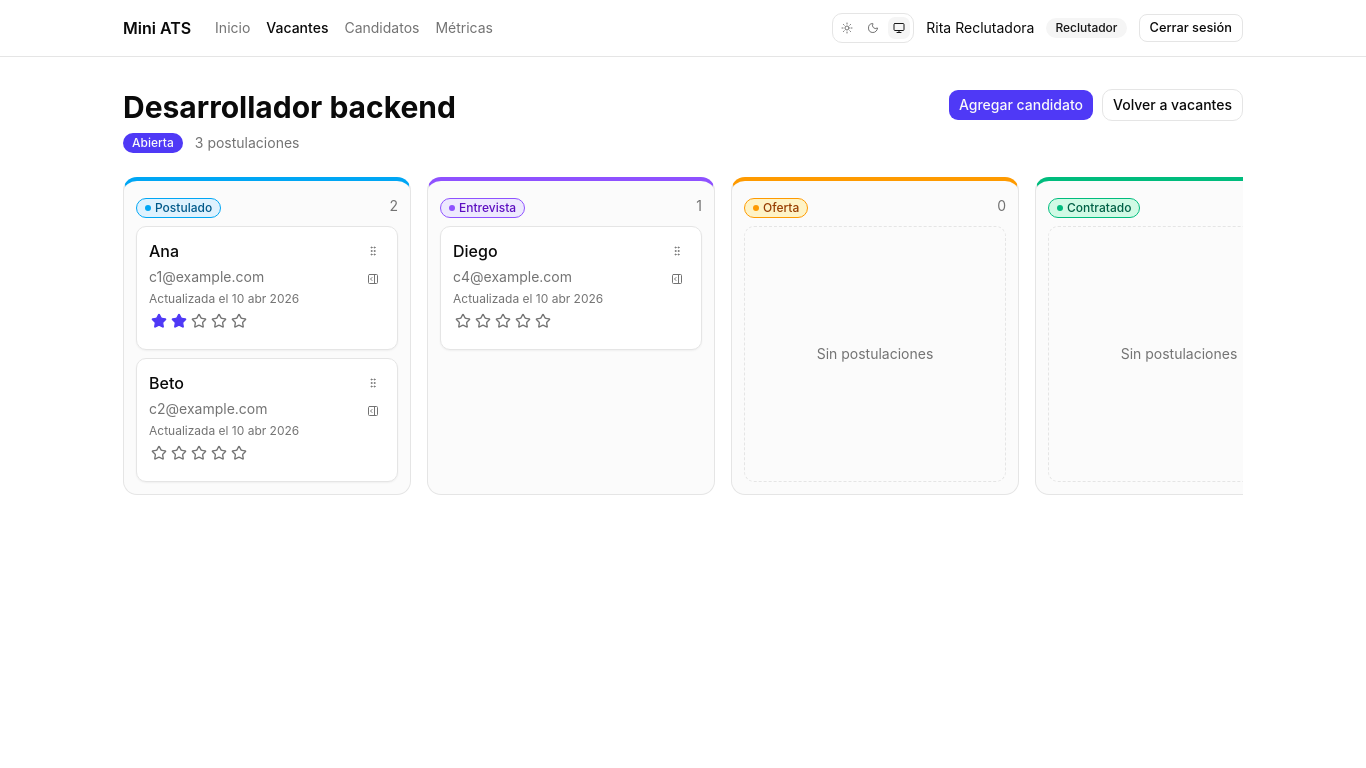
Test: Rating applications on the board › changes the stars at once on the card and in the panel, and reloads once saved
Check: the link "Ana" is shown, box [149,241,179,261]
Click the button named "Ver detalle de la postulación de Ana": (373, 279) [361,267,385,291]
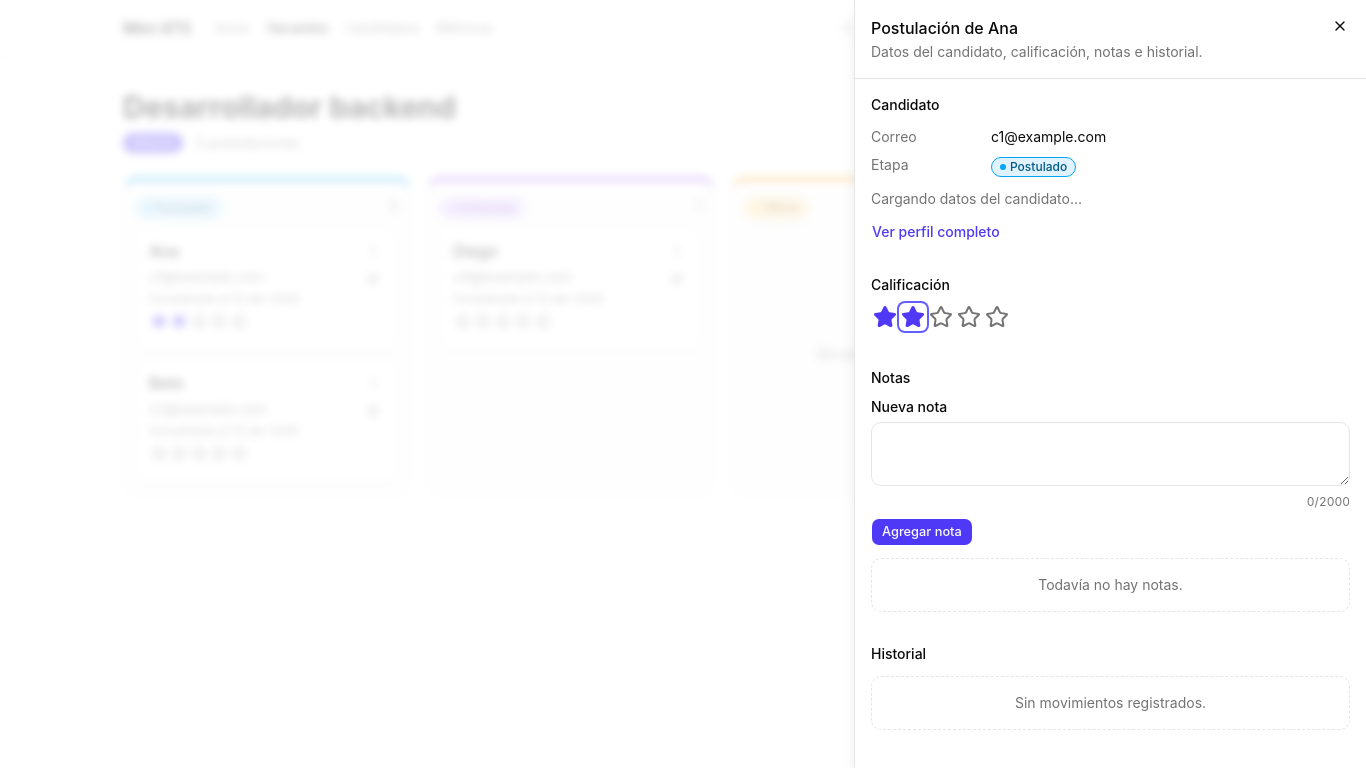
Click the button named "Calificar con 4 estrellas": (969, 317) [955,303,983,331]
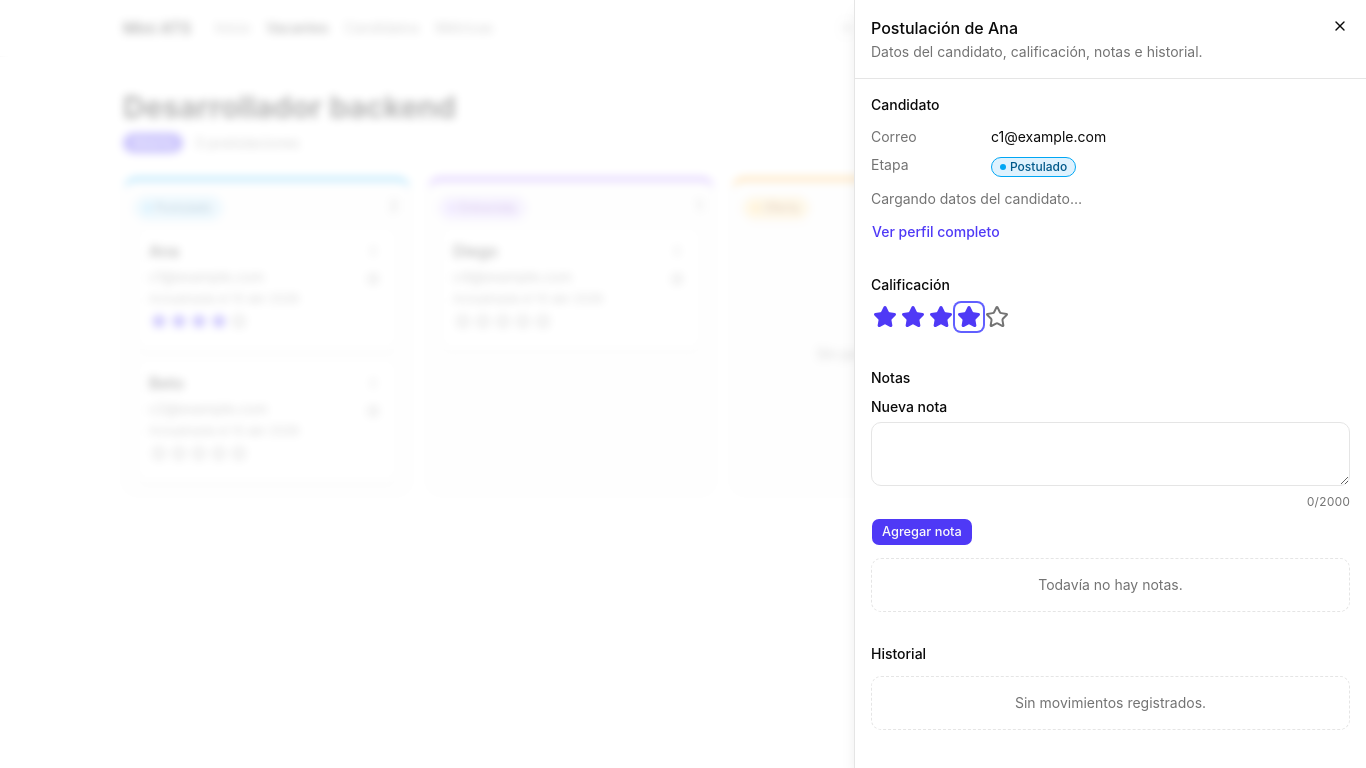
Check: the number of elements named "Calificación de Ana: 4 de 5 estrellas" is 2, box [149,311,249,331]; [871,303,1011,331]
Check: the element named "4 de 5 estrellas" is shown, box [871,303,1011,331]
